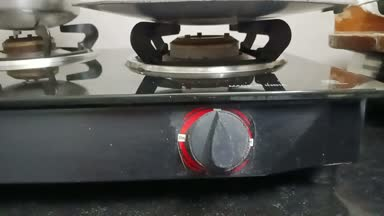noflame_gason: (139, 19, 277, 181)
